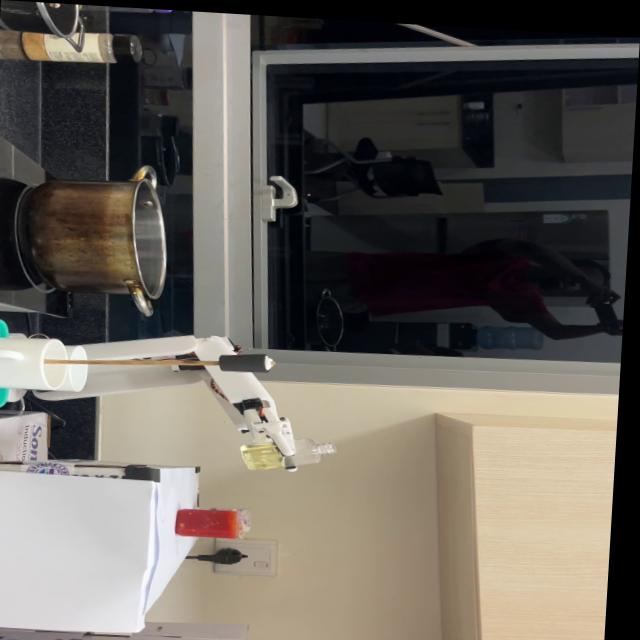blended_tomatoes_pepper: (181, 505, 242, 537)
cooking_pot: (30, 159, 164, 320), (0, 0, 82, 50)
oil: (238, 437, 284, 471)
spatula: (44, 344, 249, 375)
